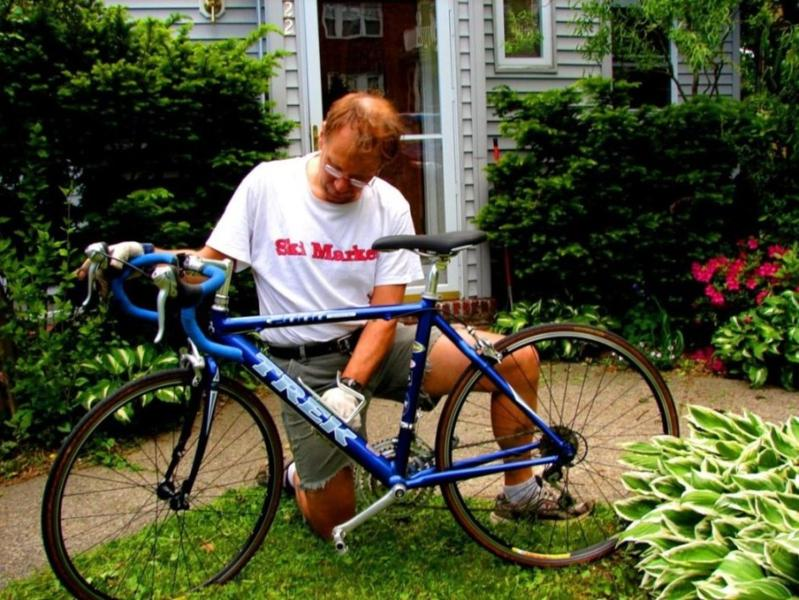person: (77, 92, 592, 543)
